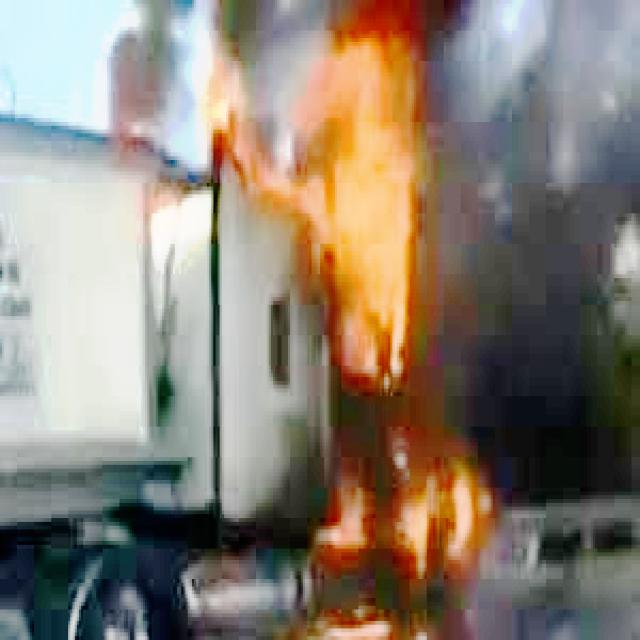api: (210, 43, 419, 386), (321, 431, 494, 584)
